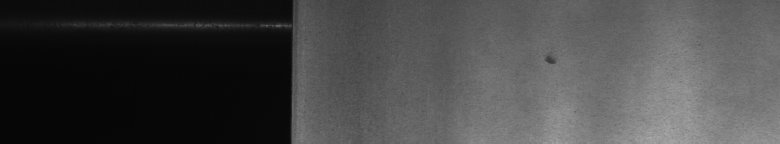fi: (540, 48, 560, 71)
